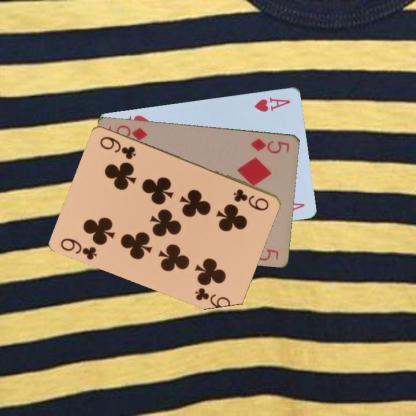5d: (248, 135, 290, 155)
9c: (58, 235, 99, 261), (231, 186, 271, 212)
Ah: (252, 94, 292, 113)
